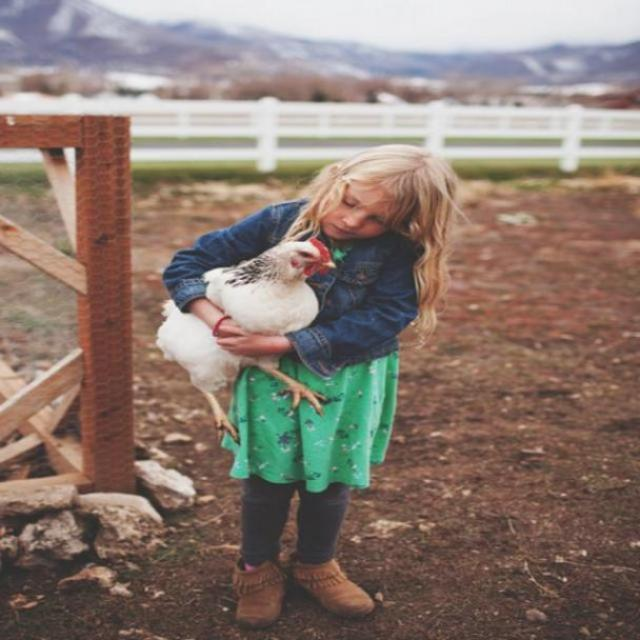Chicken: (163, 232, 332, 435)
